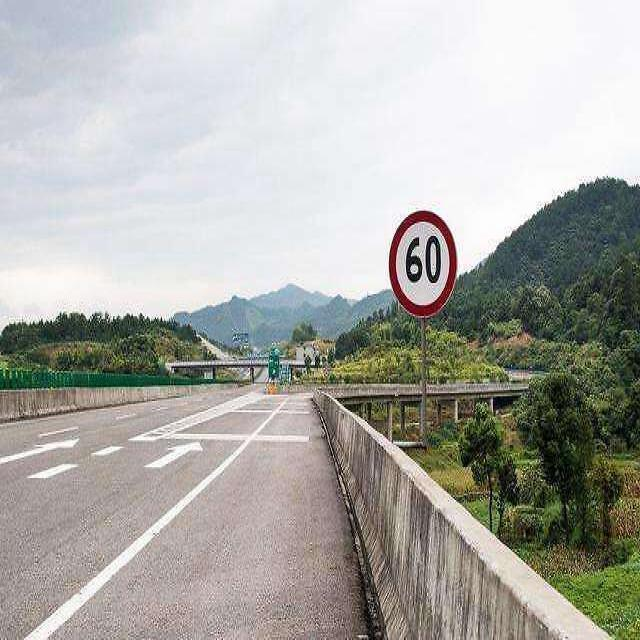speed limit 60: (389, 211, 459, 320)
